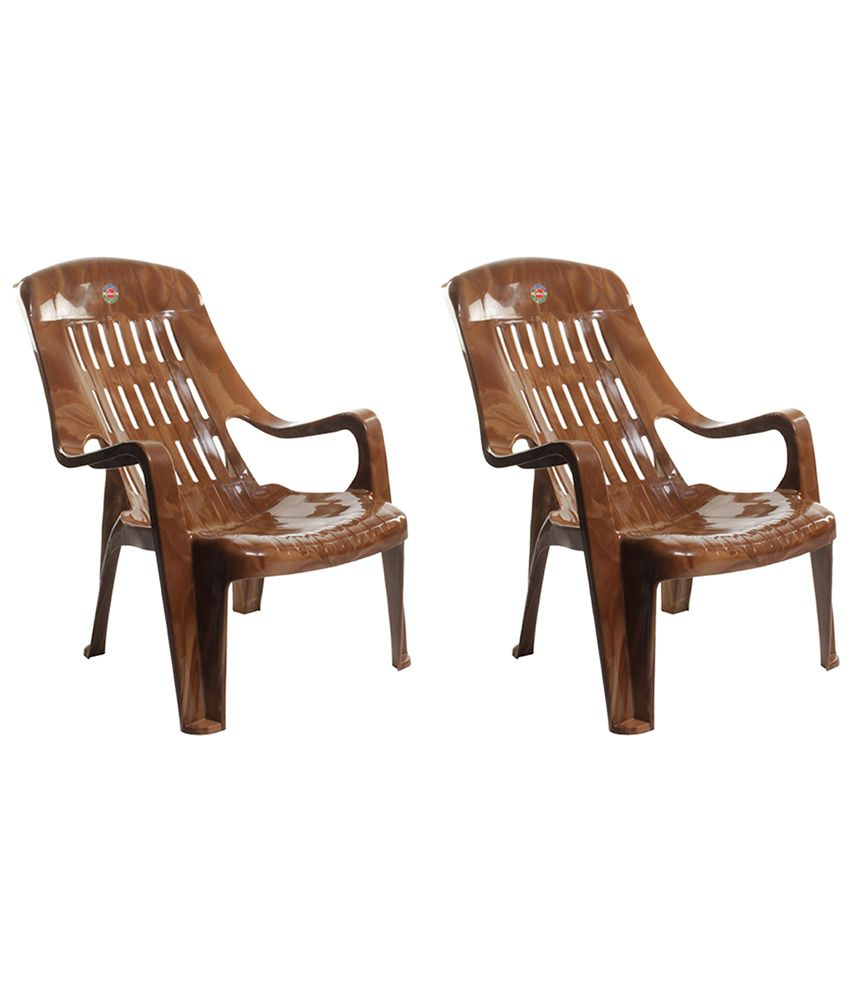Rec_Plastic: (430, 188, 838, 792), (7, 224, 453, 771)
